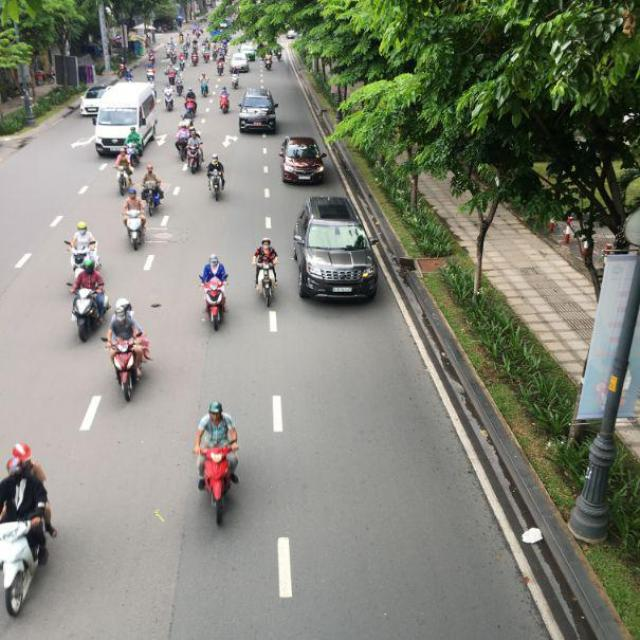bus: (292, 195, 378, 302)
car: (95, 84, 162, 160), (281, 137, 327, 186), (240, 95, 279, 138), (82, 83, 116, 119), (230, 54, 250, 74)
motorcycle: (0, 517, 50, 619), (202, 447, 240, 524), (108, 340, 144, 404), (68, 289, 106, 343), (202, 282, 229, 333), (256, 260, 279, 305), (122, 210, 146, 250), (186, 138, 203, 174)
